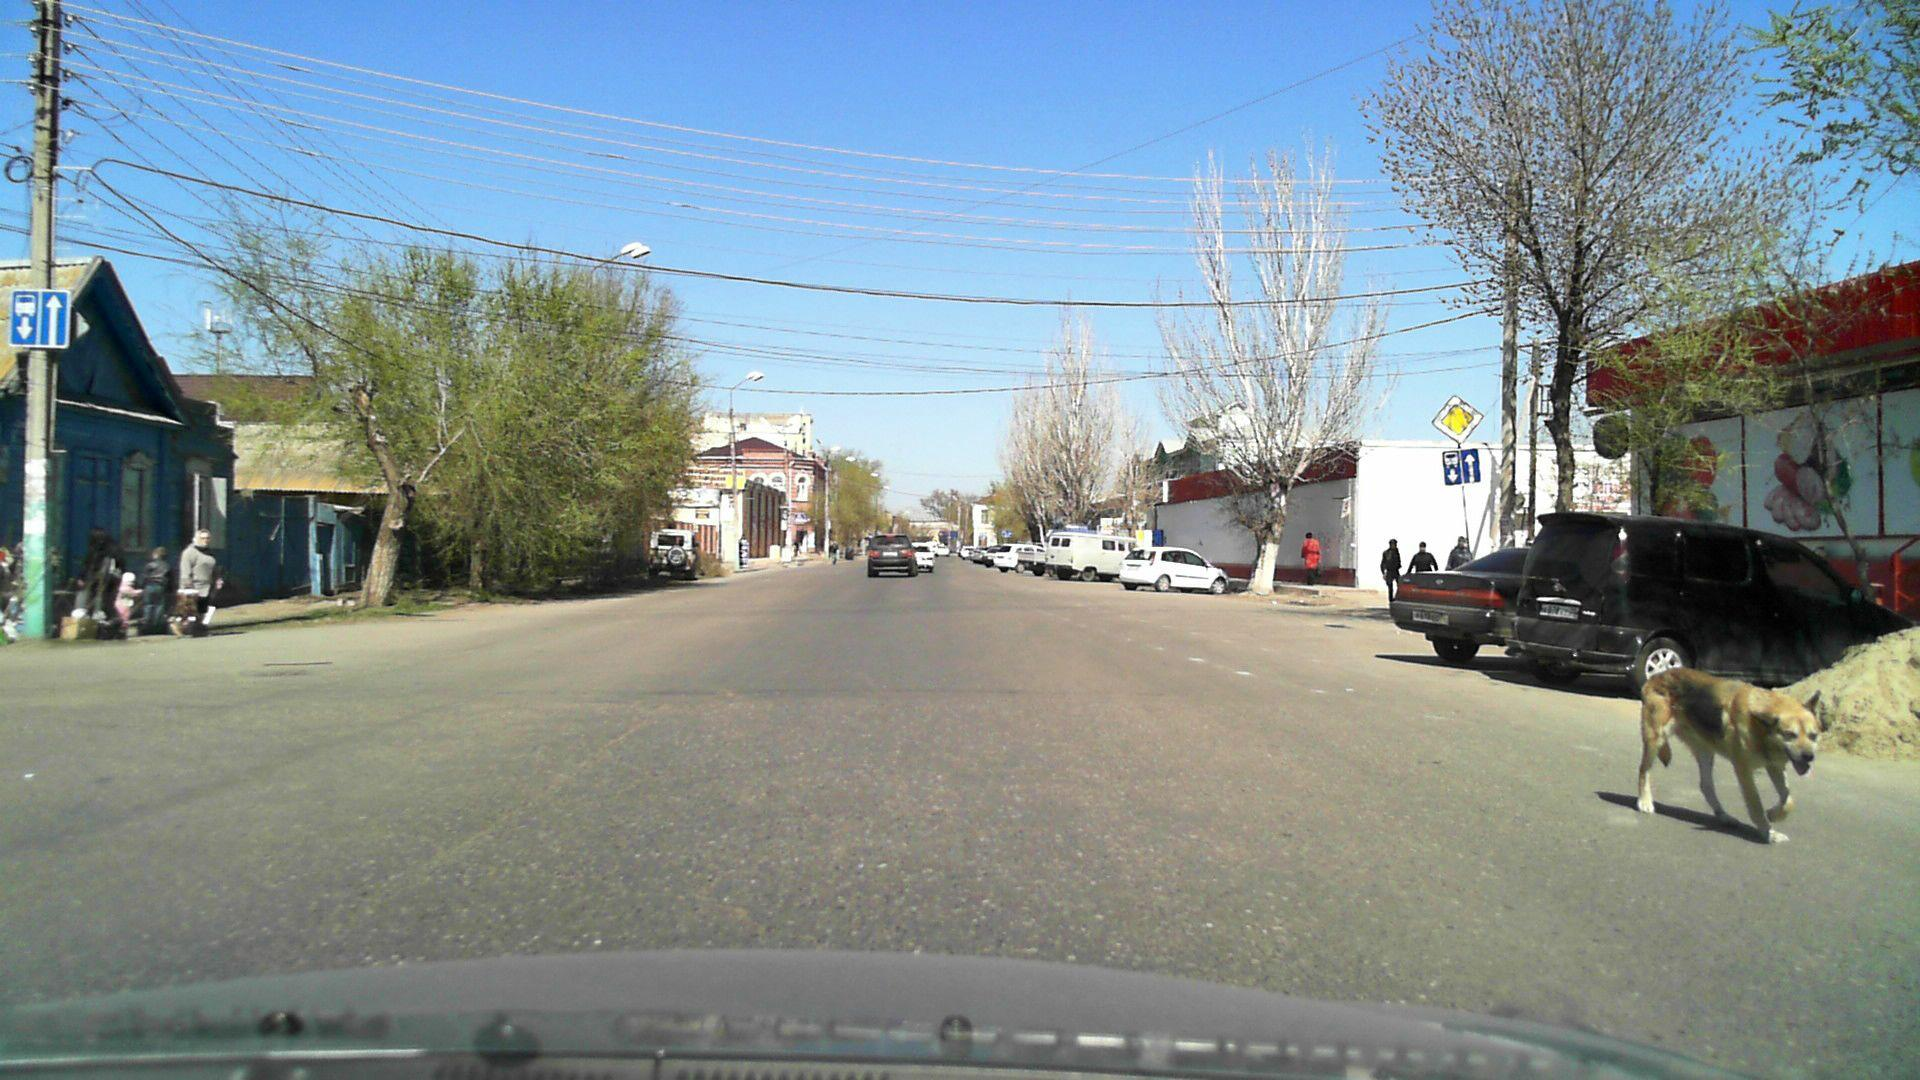2_1: (1431, 394, 1481, 442)
5_11_1: (11, 287, 69, 351), (1441, 448, 1481, 485)
